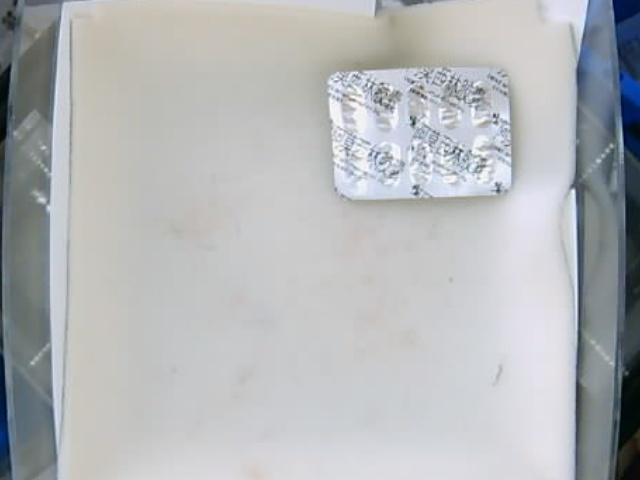Medicine: (325, 64, 515, 198)
